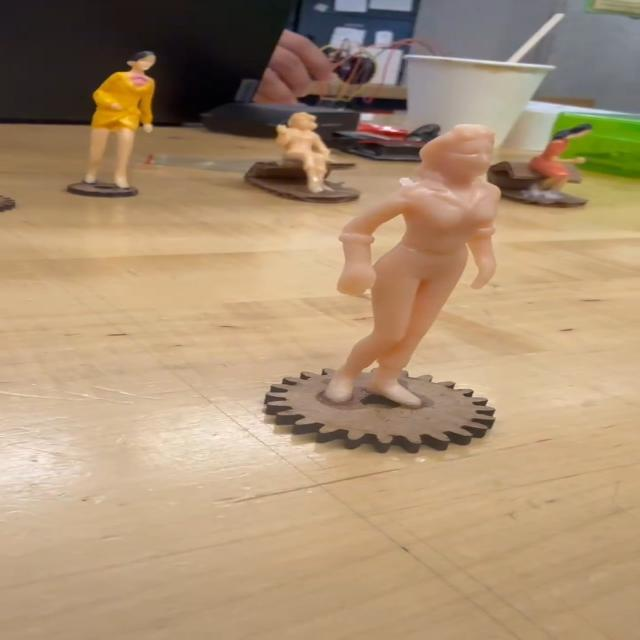Unauthorized: (336, 123, 512, 415)
